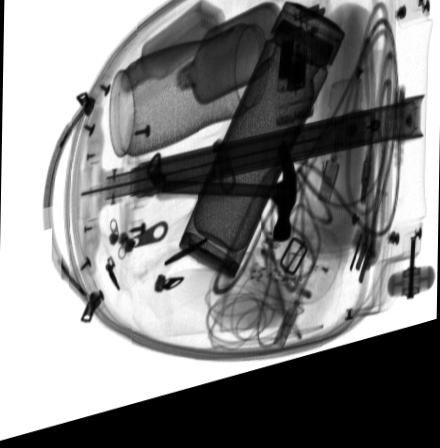Hammer: (154, 156, 295, 259)
